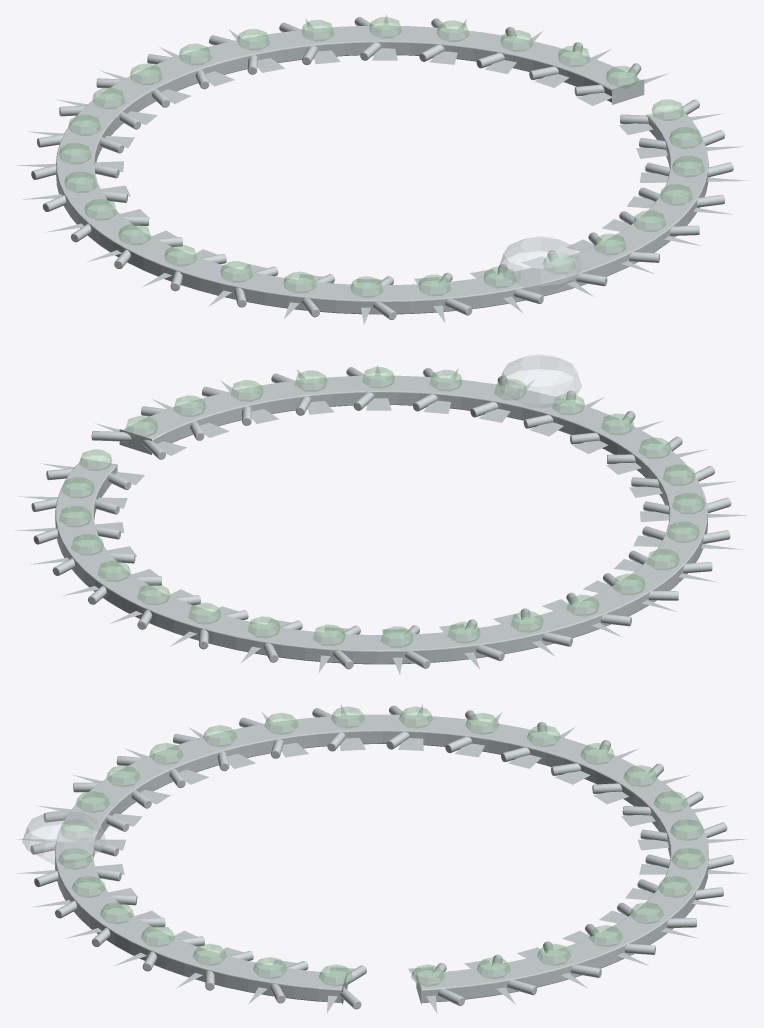
The picture shows the model from 3 angles, top to bottom: view 1: azimuth 30°, elevation 25°; view 2: azimuth 150°, elevation 25°; view 3: azimuth 270°, elevation 25°; orthographic projection.
Visible parts, largest first — view 1: TI022 / open metachrome framework, TI022 / pectoral central diamond, TI022 / pectoral emerald, TI022 / pectoral emerald.003, TI022 / pectoral emerald.012, TI022 / pectoral emerald.023, TI022 / pectoral emerald.017, TI022 / pectoral emerald.018, TI022 / pectoral emerald.026, TI022 / pectoral emerald.002, TI022 / pectoral emerald.005, TI022 / pectoral emerald.008 (+18 smaller); view 2: TI022 / open metachrome framework, TI022 / pectoral central diamond, TI022 / pectoral emerald.027, TI022 / pectoral emerald.018, TI022 / pectoral emerald.004, TI022 / pectoral emerald.009, TI022 / pectoral emerald.024, TI022 / pectoral emerald.002, TI022 / pectoral emerald.013, TI022 / pectoral emerald.017, TI022 / pectoral emerald.026, TI022 / pectoral emerald (+18 smaller); view 3: TI022 / open metachrome framework, TI022 / pectoral central diamond, TI022 / pectoral emerald.012, TI022 / pectoral emerald.015, TI022 / pectoral emerald.010, TI022 / pectoral emerald.017, TI022 / pectoral emerald.007, TI022 / pectoral emerald, TI022 / pectoral emerald.027, TI022 / pectoral emerald.002, TI022 / pectoral emerald.009, TI022 / pectoral emerald.018 (+18 smaller).
Boxes of the visible parts, x1,y1,x2,y2 form: TI022 / open metachrome framework: (56, 25, 708, 314); TI022 / pectoral central diamond: (499, 236, 582, 294); TI022 / pectoral emerald: (606, 65, 638, 88); TI022 / pectoral emerald.003: (436, 20, 469, 41); TI022 / pectoral emerald.012: (64, 171, 97, 192); TI022 / pectoral emerald.023: (633, 210, 666, 231); TI022 / pectoral emerald.017: (283, 271, 316, 293); TI022 / pectoral emerald.018: (350, 276, 383, 297); TI022 / pectoral emerald.026: (669, 127, 702, 148); TI022 / pectoral emerald.002: (500, 30, 533, 51); TI022 / pectoral emerald.005: (301, 19, 334, 41); TI022 / pectoral emerald.008: (130, 63, 162, 84); TI022 / open metachrome framework: (55, 375, 707, 664); TI022 / pectoral central diamond: (498, 354, 581, 407); TI022 / pectoral emerald.027: (125, 415, 157, 438); TI022 / pectoral emerald.018: (638, 437, 671, 458); TI022 / pectoral emerald.004: (97, 560, 130, 581); TI022 / pectoral emerald.009: (380, 626, 413, 647); TI022 / pectoral emerald.024: (294, 370, 327, 391); TI022 / pectoral emerald.002: (59, 505, 91, 527); TI022 / pectoral emerald.013: (612, 573, 645, 594); TI022 / pectoral emerald.017: (662, 464, 695, 485); TI022 / pectoral emerald.026: (173, 395, 205, 416); TI022 / pectoral emerald: (79, 449, 112, 470); TI022 / open metachrome framework: (55, 714, 708, 1004); TI022 / pectoral central diamond: (22, 809, 106, 865); TI022 / pectoral emerald.012: (465, 712, 499, 734); TI022 / pectoral emerald.015: (264, 712, 298, 734); TI022 / pectoral emerald.010: (580, 743, 614, 764); TI022 / pectoral emerald.017: (149, 743, 183, 764); TI022 / pectoral emerald.007: (670, 819, 704, 840); TI022 / pectoral emerald: (411, 964, 444, 986); TI022 / pectoral emerald.027: (319, 964, 352, 986); TI022 / pectoral emerald.002: (537, 943, 571, 965); TI022 / pectoral emerald.009: (623, 765, 657, 786); TI022 / pectoral emerald.018: (106, 765, 140, 786).
Bounding box in the file's own units: 3.81 × 0.2818 × 3.82.
